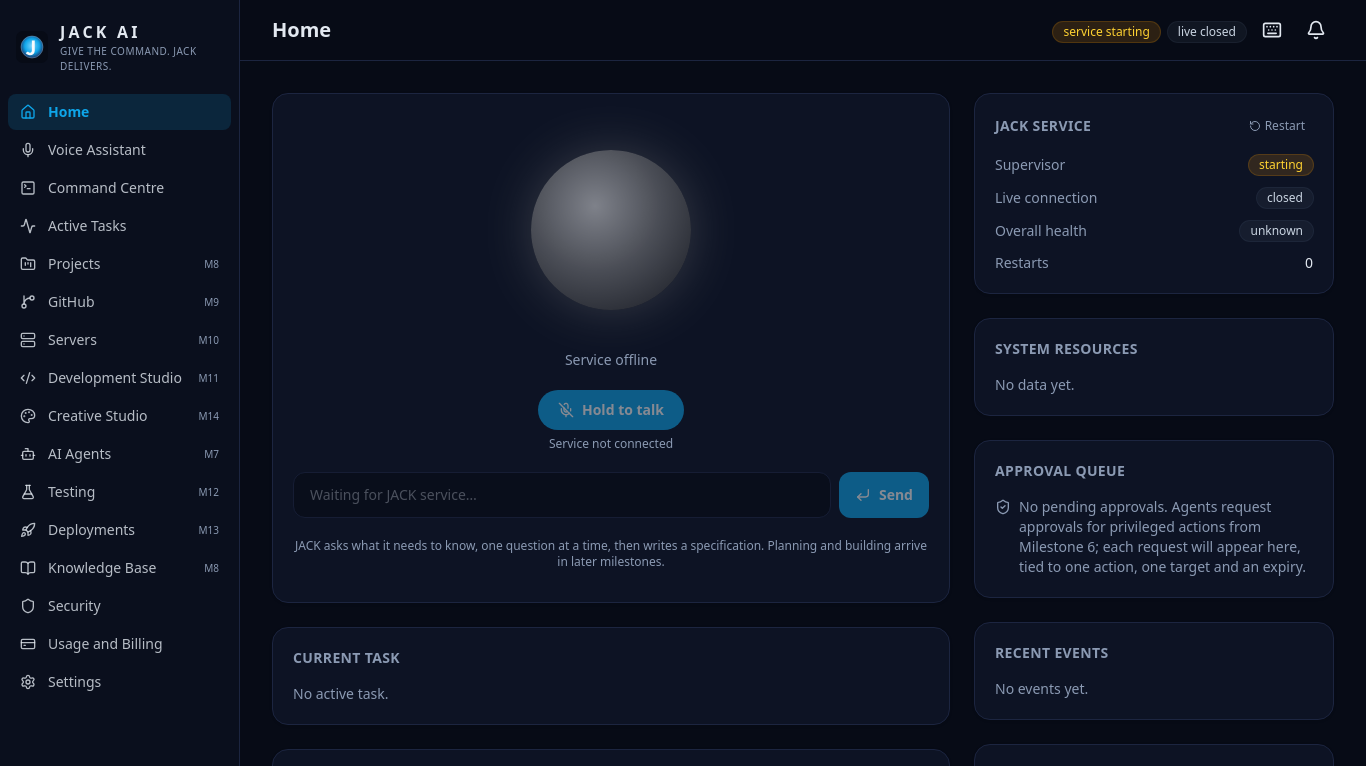
Scenario: App › marks unimplemented sections honestly
What coordinates should you click on to do the following:
click the button "Deployments M13"
I would click on:
 (120, 530)
Its box is [8,512,231,548].
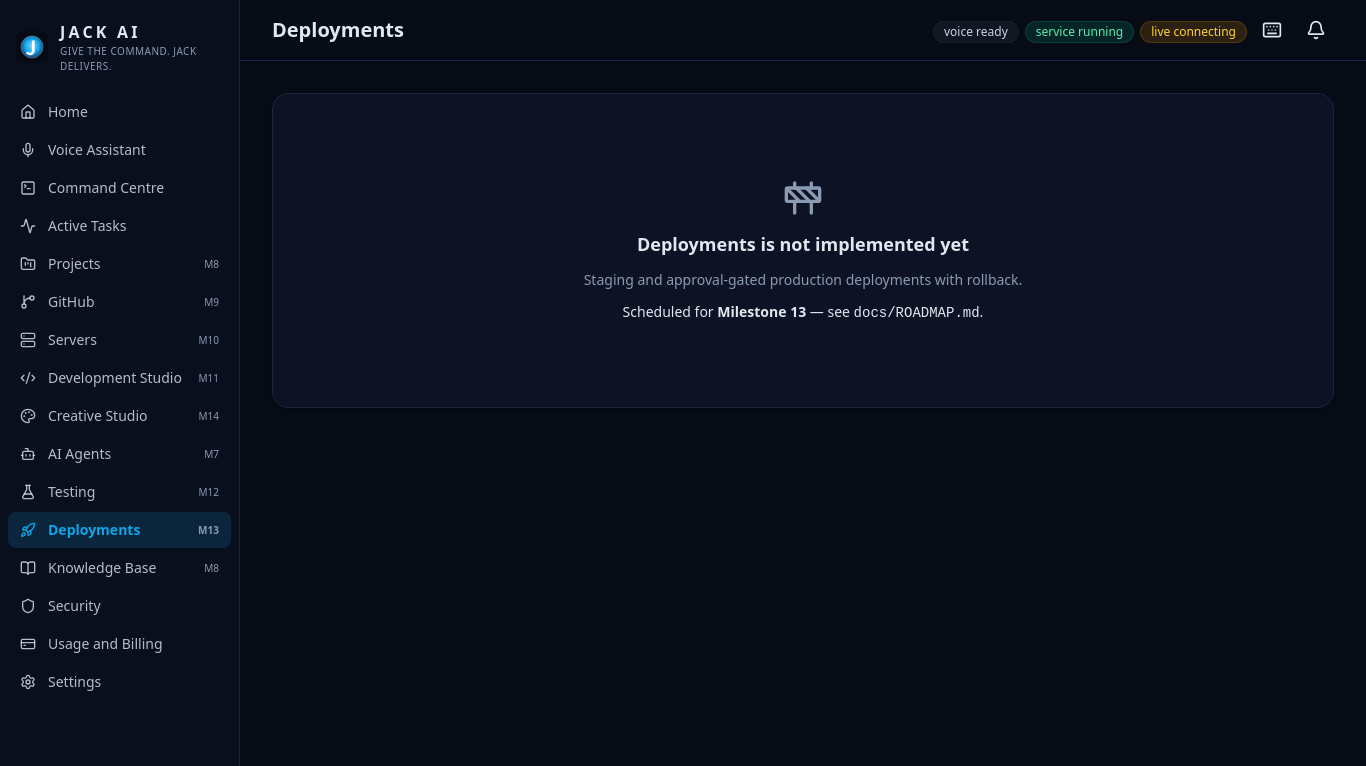
expect the heading "Deployments is not implemented yet" is shown: met, box [637,230,969,258]
expect the text "Milestone 13" is shown: met, box [717,302,806,321]
